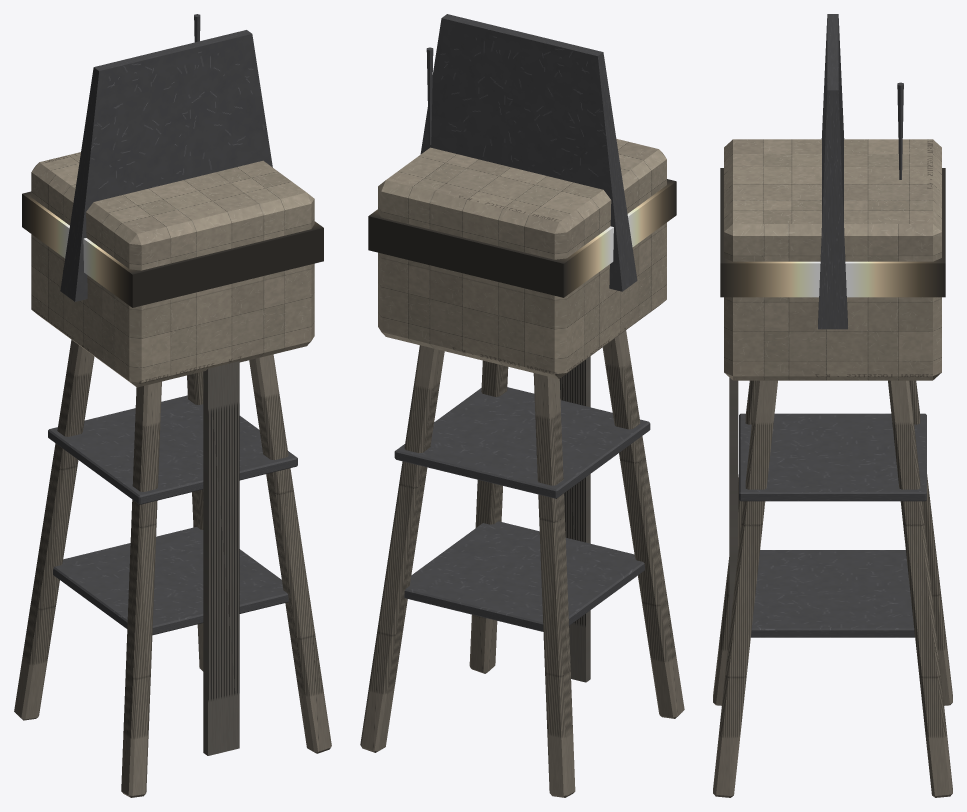
File: watchtower.obj
3 renders of one model, left to right at view 1: azimuth 30°, elevation 25°; view 2: azimuth 150°, elevation 25°; view 3: azimuth 270°, elevation 25°, orthographic. The views are drawn at different scales.
Visible parts, largest first — view 1: watchtower; view 2: watchtower; view 3: watchtower.
Part boxes in pixels (x1,y1,x2,y2): watchtower: (14,14,331,797); watchtower: (360,14,684,797); watchtower: (713,14,952,797).
Size of the model in its own units: 3.3 by 10.24 by 3.19.
Materials: 1 (1 with a texture image).
